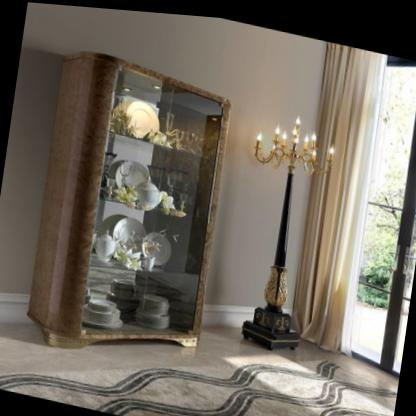Ceramic floor: (0, 333, 296, 381)
Cupboard: (26, 49, 231, 348)
Curtains: (293, 37, 386, 348)
